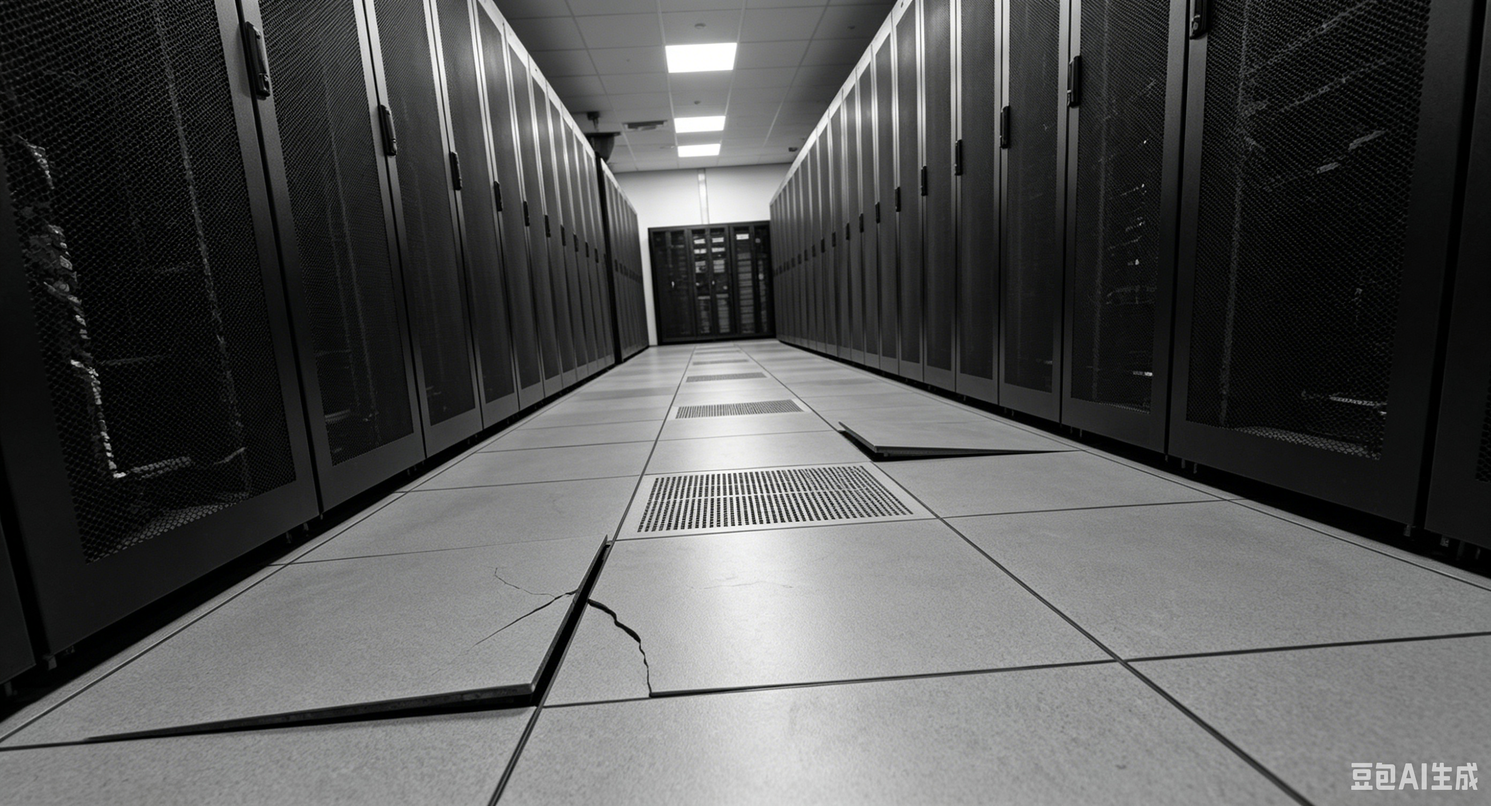floor_defect: (85, 667, 615, 745), (827, 407, 1077, 467), (547, 534, 614, 672), (477, 543, 548, 659), (618, 610, 684, 708)
